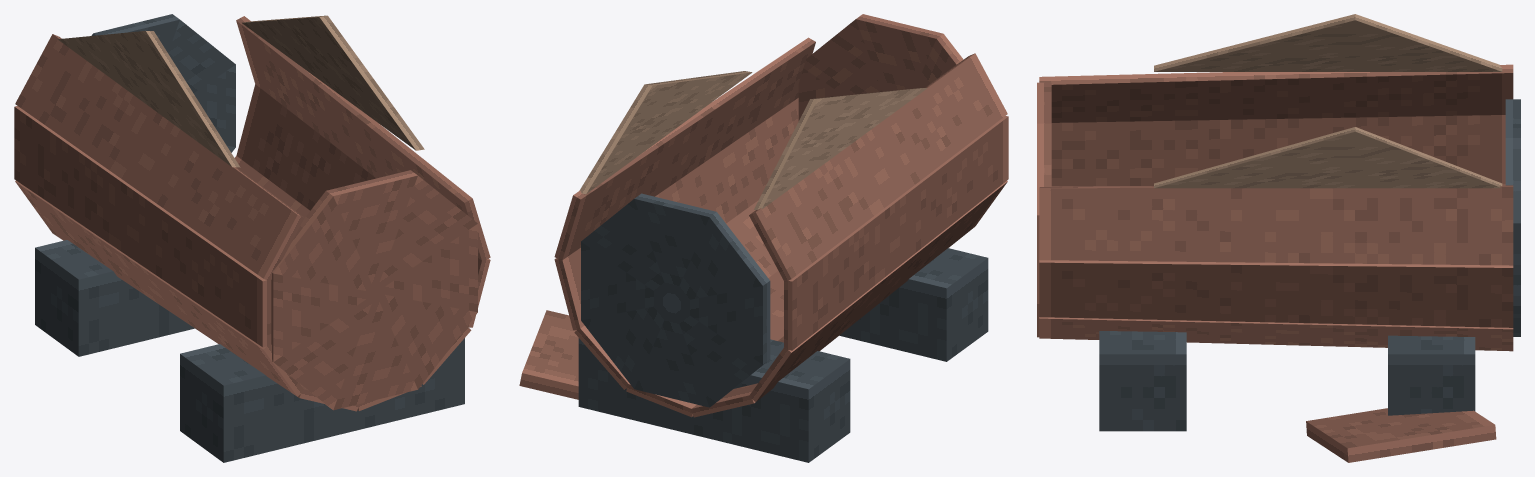
The model's file is f_gas_tank_smashed.glb.
The picture shows the model from 3 angles, left to right: view 1: azimuth 30°, elevation 25°; view 2: azimuth 150°, elevation 25°; view 3: azimuth 270°, elevation 25°; orthographic projection. The views are drawn at different scales.
Parts seen in each view (by area): view 1: block_dented-shell-panel (×6), block_crushed-endcap, block_saddle-0.25, block_peeled-metal-edge (×2), block_saddle--0.28, block_dark-endcap; view 2: block_dented-shell-panel (×8), block_dark-endcap, block_saddle--0.28, block_peeled-metal-edge (×2), block_saddle-0.25, block_crushed-endcap, block_torn-fragment; view 3: block_dented-shell-panel (×5), block_peeled-metal-edge (×2), block_saddle-0.25, block_torn-fragment, block_saddle--0.28, block_dark-endcap, block_crushed-endcap.
Part boxes in pixels (<box>): block_dented-shell-panel (×6): <box>14,16,490,396</box>; block_crushed-endcap: <box>271,170,477,410</box>; block_saddle-0.25: <box>180,338,464,462</box>; block_peeled-metal-edge (×2): <box>58,15,424,167</box>; block_saddle--0.28: <box>35,240,194,356</box>; block_dark-endcap: <box>91,14,235,152</box>; block_dented-shell-panel (×8): <box>554,37,1008,417</box>; block_dark-endcap: <box>581,193,770,407</box>; block_saddle--0.28: <box>578,338,850,462</box>; block_peeled-metal-edge (×2): <box>579,71,927,209</box>; block_saddle-0.25: <box>839,248,988,361</box>; block_crushed-endcap: <box>798,14,963,120</box>; block_torn-fragment: <box>519,310,578,399</box>; block_dented-shell-panel (×5): <box>1039,64,1513,351</box>; block_peeled-metal-edge (×2): <box>1154,14,1502,188</box>; block_saddle-0.25: <box>1099,331,1186,431</box>; block_torn-fragment: <box>1306,408,1496,462</box>; block_saddle--0.28: <box>1388,335,1475,415</box>; block_dark-endcap: <box>1505,99,1520,336</box>; block_crushed-endcap: <box>1037,82,1051,337</box>.
Bounding box in the file's own units: 0.7248 × 0.6624 × 0.8885.
1 material, 1 textured.
